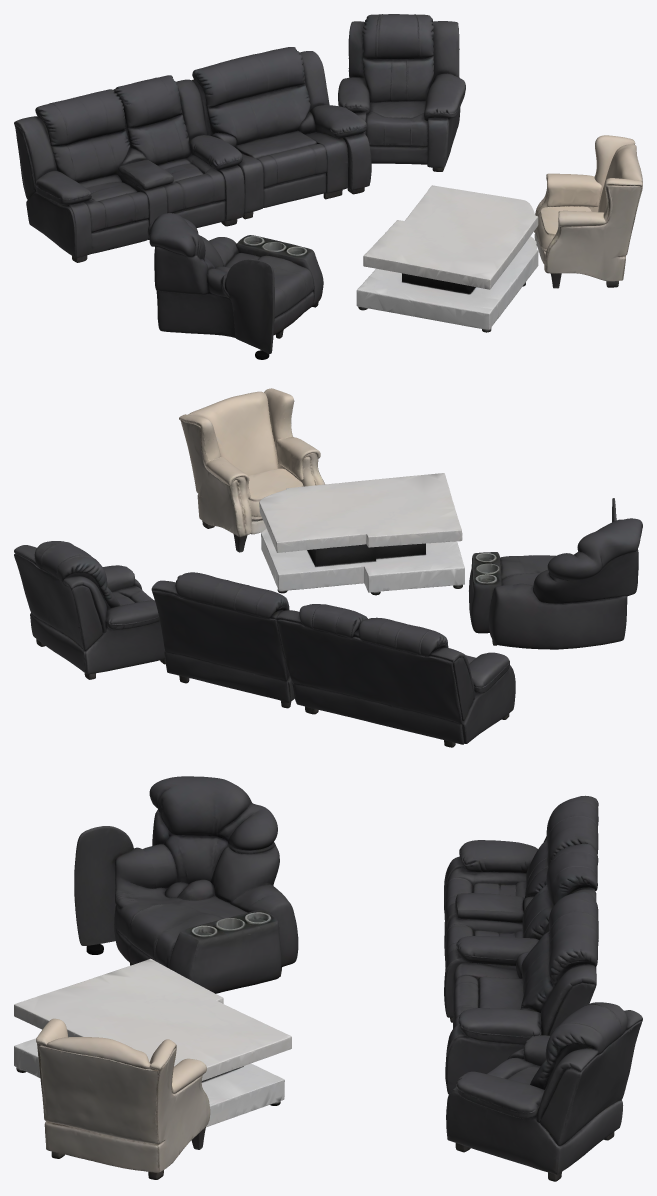
Rendered from sitting-room-set.glb.
3 renders of one model, top to bottom at view 1: azimuth 30°, elevation 25°; view 2: azimuth 150°, elevation 25°; view 3: azimuth 270°, elevation 25°, orthographic. The views are drawn at different scales.
Visible parts, largest first — view 1: model; view 2: model; view 3: model.
Boxes of the visible parts, <box> form: model: <box>14,14,642,359</box>; model: <box>14,388,642,747</box>; model: <box>14,776,642,1181</box>.
Size of the model in its own units: 1.9 by 0.446 by 1.78.
Materials: 1 (1 with a texture image).
